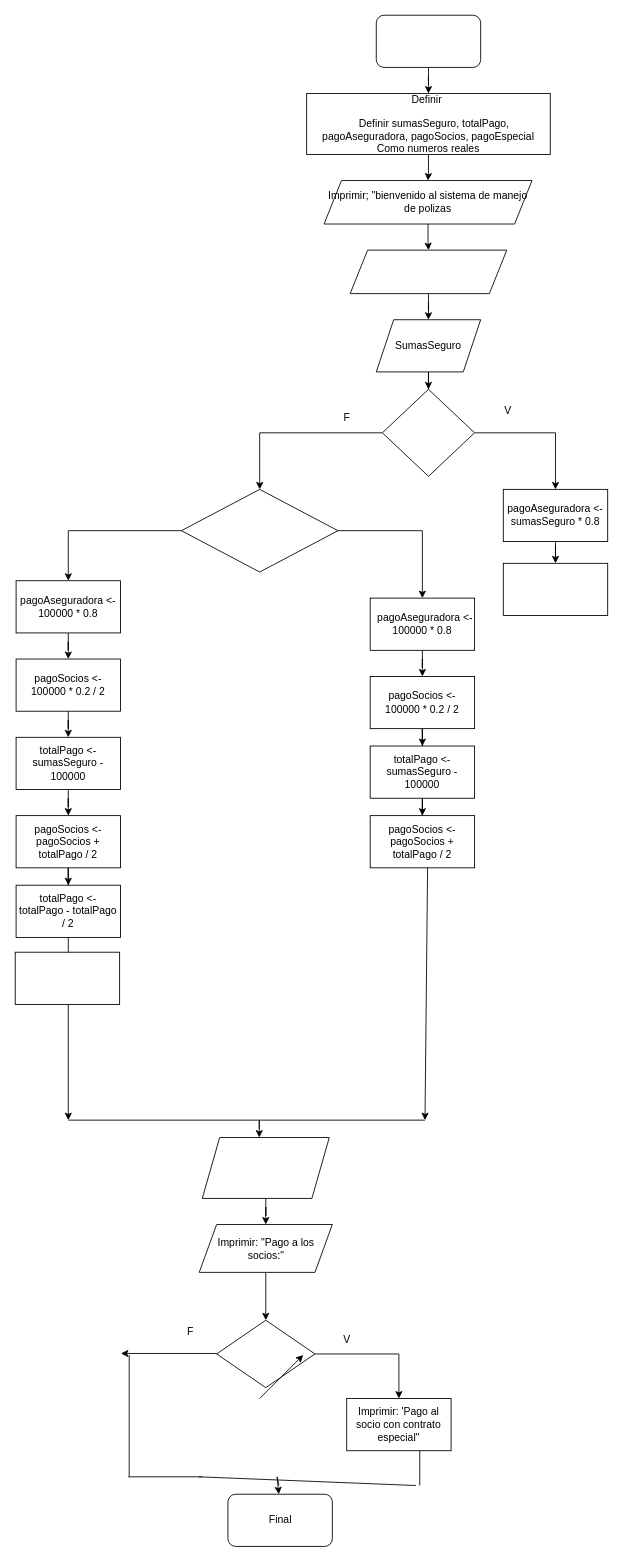
Image size: 623x1562. Some labels were removed from this diagram. The centre of each missing label's shape, as x and y in pixels:
Imprimir "'Pago a la aseguradora": (x=265, y=1167)
Imprimir: "Ingrese la suma asegurada:": (x=428, y=271)
Inicio: (x=428, y=40)
pagoEspecial <- totalPago: (x=67, y=977)
pagoEspecial > 0: (x=265, y=1353)
pagoSocios <- sumasSeguro * 0.2 / 2: (x=555, y=589)
sumaAsegurada <= 100000: (x=428, y=432)
sumasSeguro > 100000 Y sumasSeguro <= 120000: (x=259, y=530)
